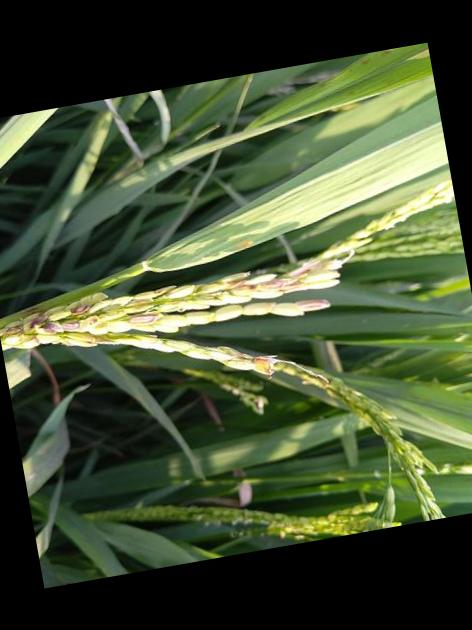Panicle Blight: (0, 292, 106, 344), (222, 258, 338, 298), (129, 310, 172, 331), (247, 355, 281, 375), (292, 297, 329, 311)
